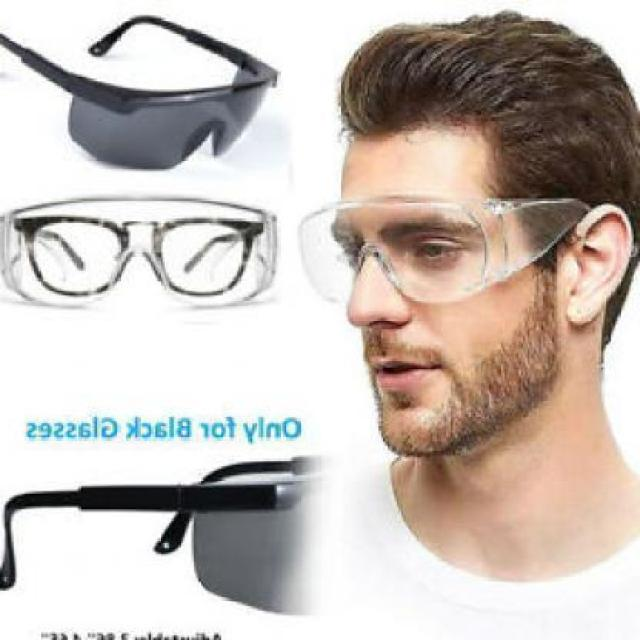face_nomask: (320, 203, 474, 412)
glasses: (300, 184, 588, 314)
head_nohelmet: (322, 13, 606, 161)
